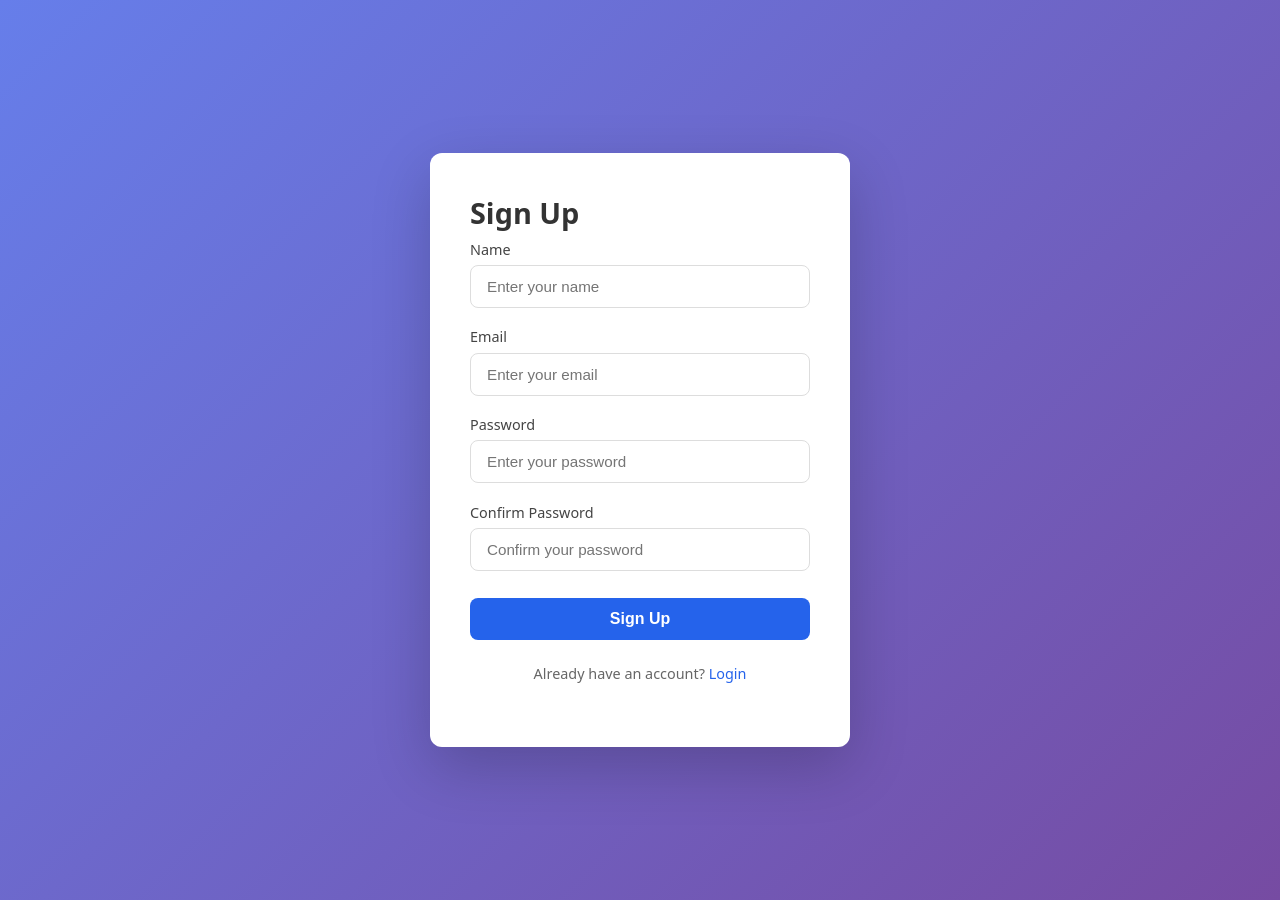
Scenario: Signup Page › shows error for short password
Type "John" into the field with placeholder "Enter your name" at coordinates (640, 287), box [470, 265, 810, 308]
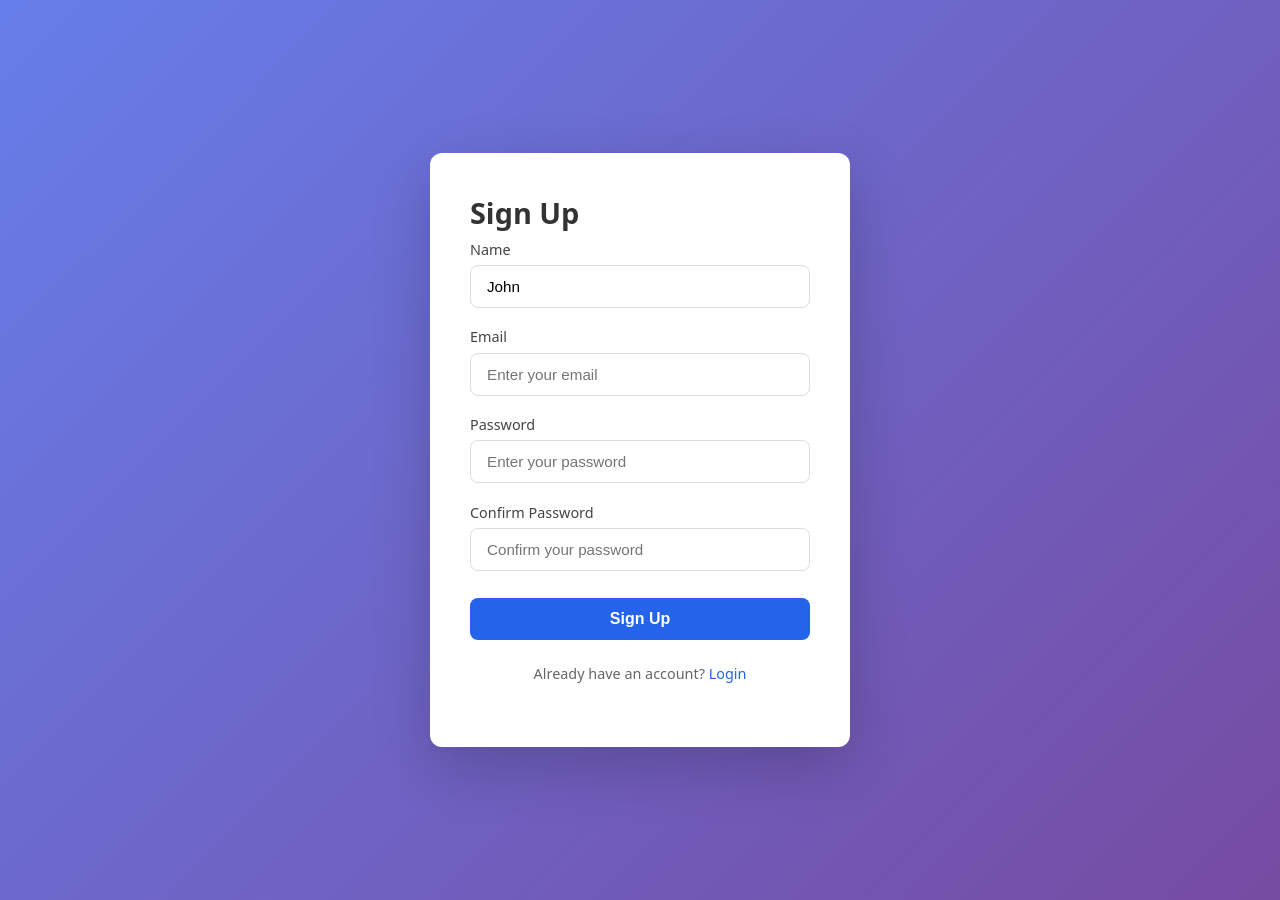
Type "user@test.com" into the field with placeholder "Enter your email" at coordinates (640, 374), box [470, 353, 810, 396]
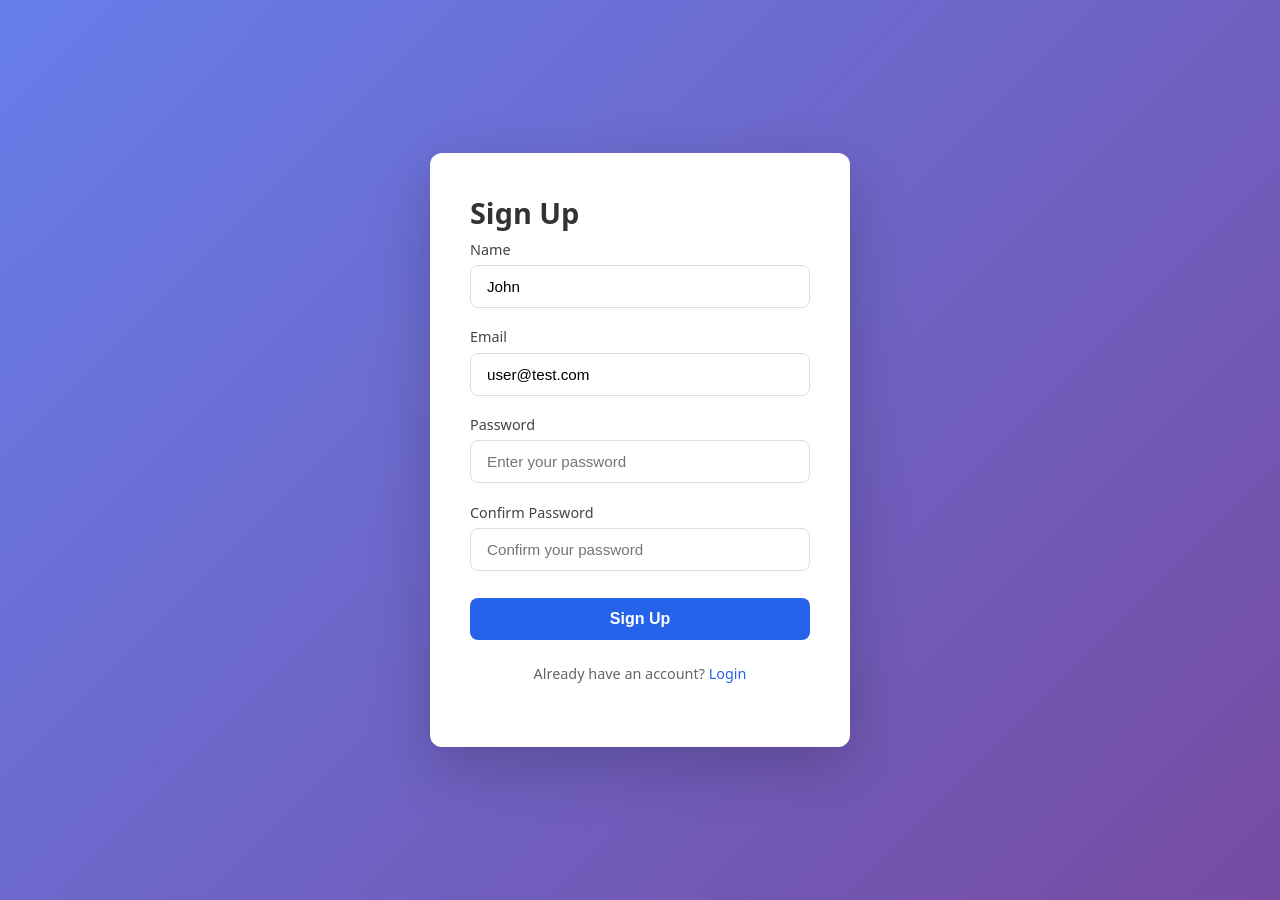
Type "123" into the password field with placeholder "Enter your password" at coordinates (640, 462), box [470, 440, 810, 483]
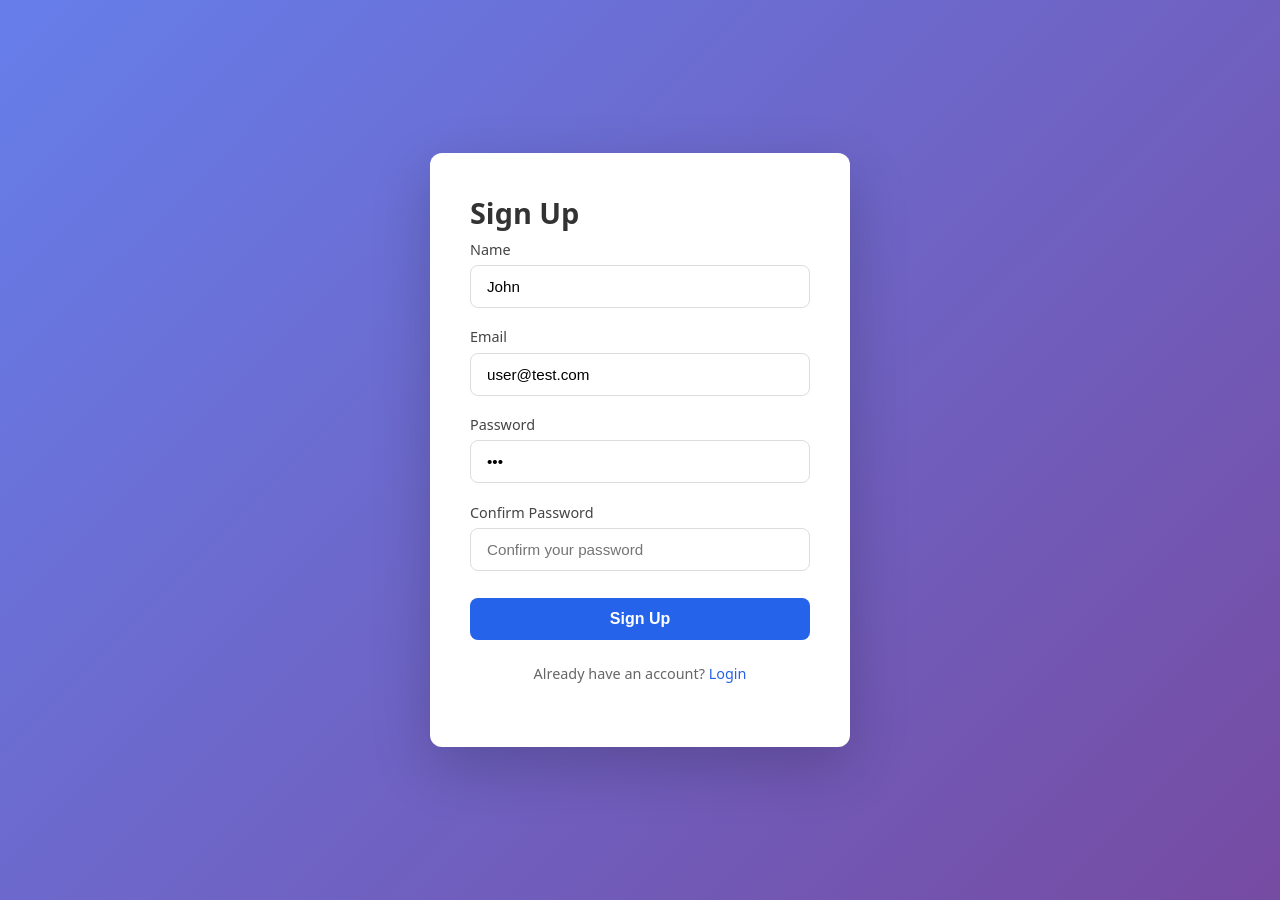
Type "123" into the password field with placeholder "Confirm your password" at coordinates (640, 550), box [470, 528, 810, 571]
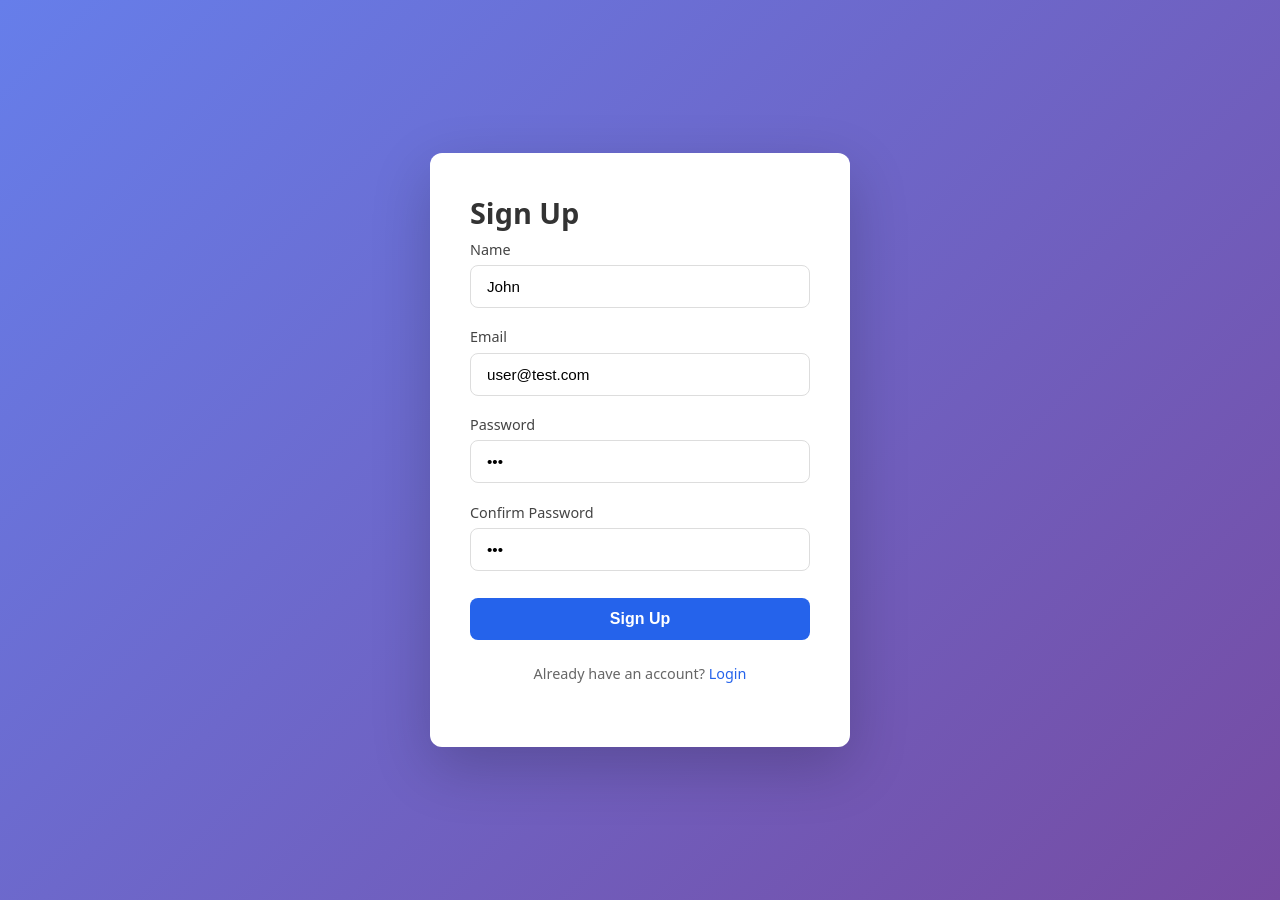
Click the button "Sign Up" at coordinates (640, 619), box [470, 598, 810, 640]
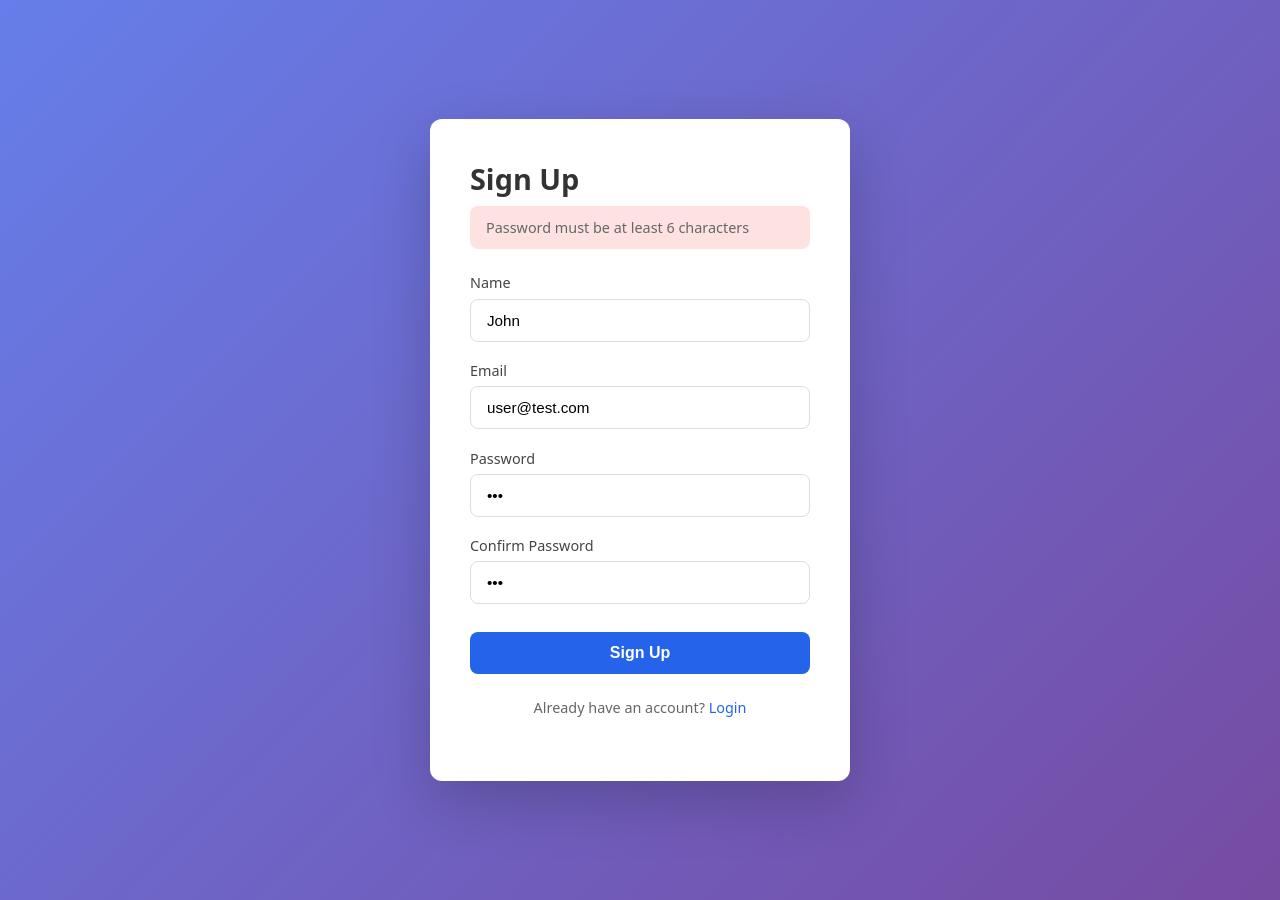
Expected: the text "Password must be at least 6 characters" is shown, [470, 206, 810, 249]
